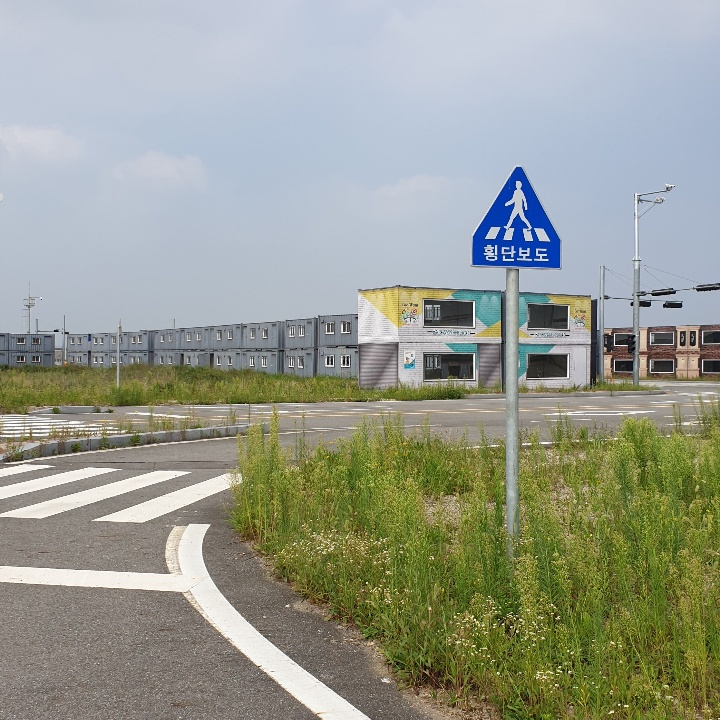cross: (498, 172, 538, 234)
